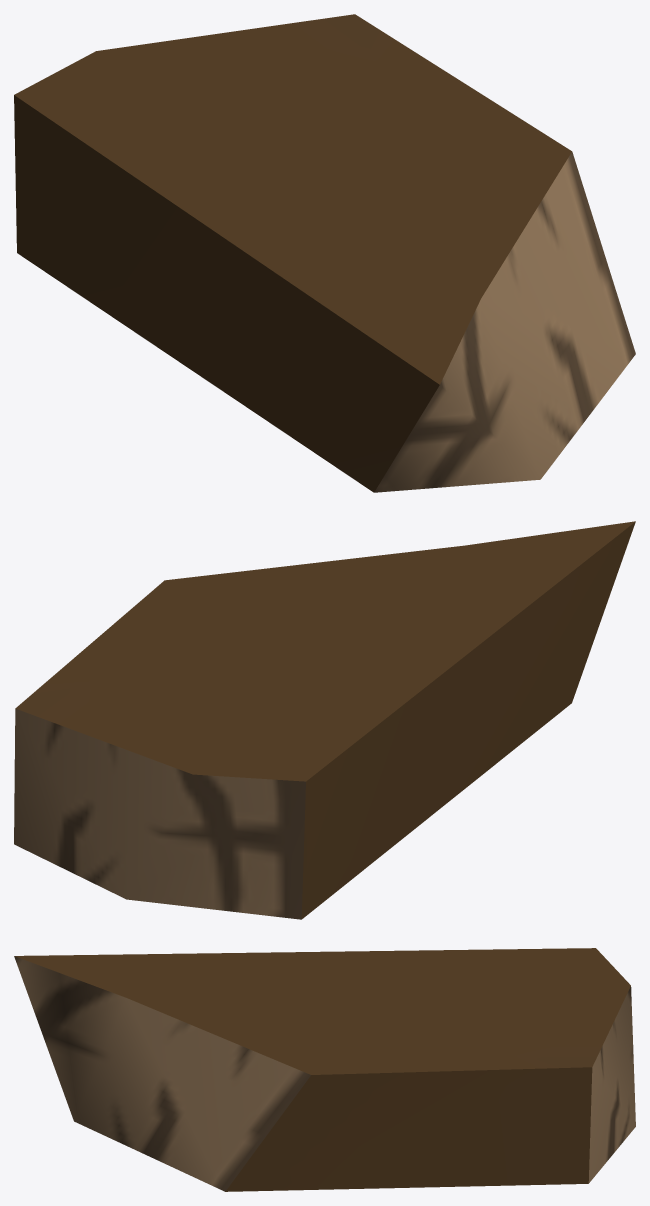
The model's file is FX_wood_C.glb.
3 views of the same model, one above another, from view 1: azimuth 30°, elevation 25°; view 2: azimuth 150°, elevation 25°; view 3: azimuth 270°, elevation 25° (orthographic). The views are drawn at different scales.
Parts seen in each view (by area): view 1: FX_wood_C; view 2: FX_wood_C; view 3: FX_wood_C.
Boxes of the visible parts, x1=… form: FX_wood_C: x1=14, y1=14, x2=635, y2=492; FX_wood_C: x1=14, y1=521, x2=635, y2=919; FX_wood_C: x1=14, y1=948, x2=635, y2=1191.
Bounding box in the file's own units: 0.4536 × 0.1902 × 0.9285.
Materials: 1 (1 with a texture image).
